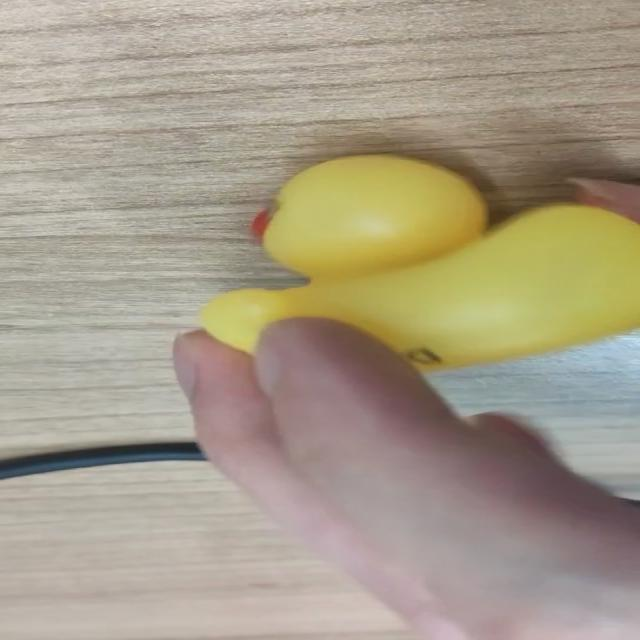rubber-duck: (201, 154, 638, 367)
